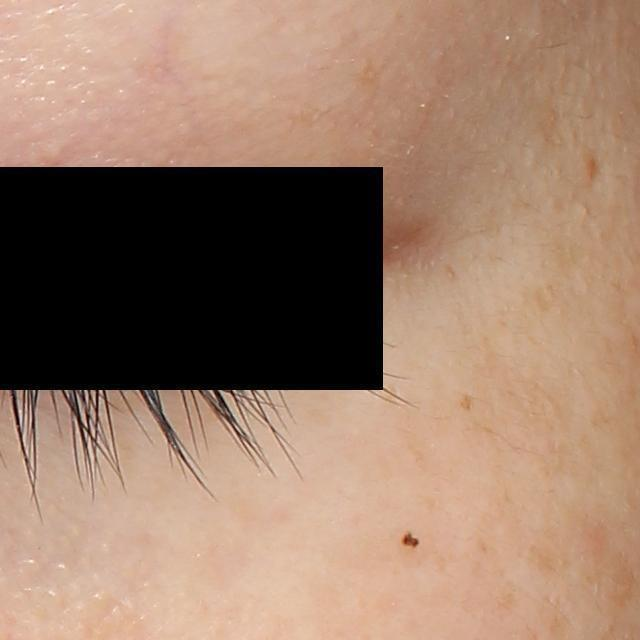melasma: (520, 537, 575, 580), (605, 550, 638, 613), (459, 395, 475, 412)
nevus: (401, 529, 420, 548)
